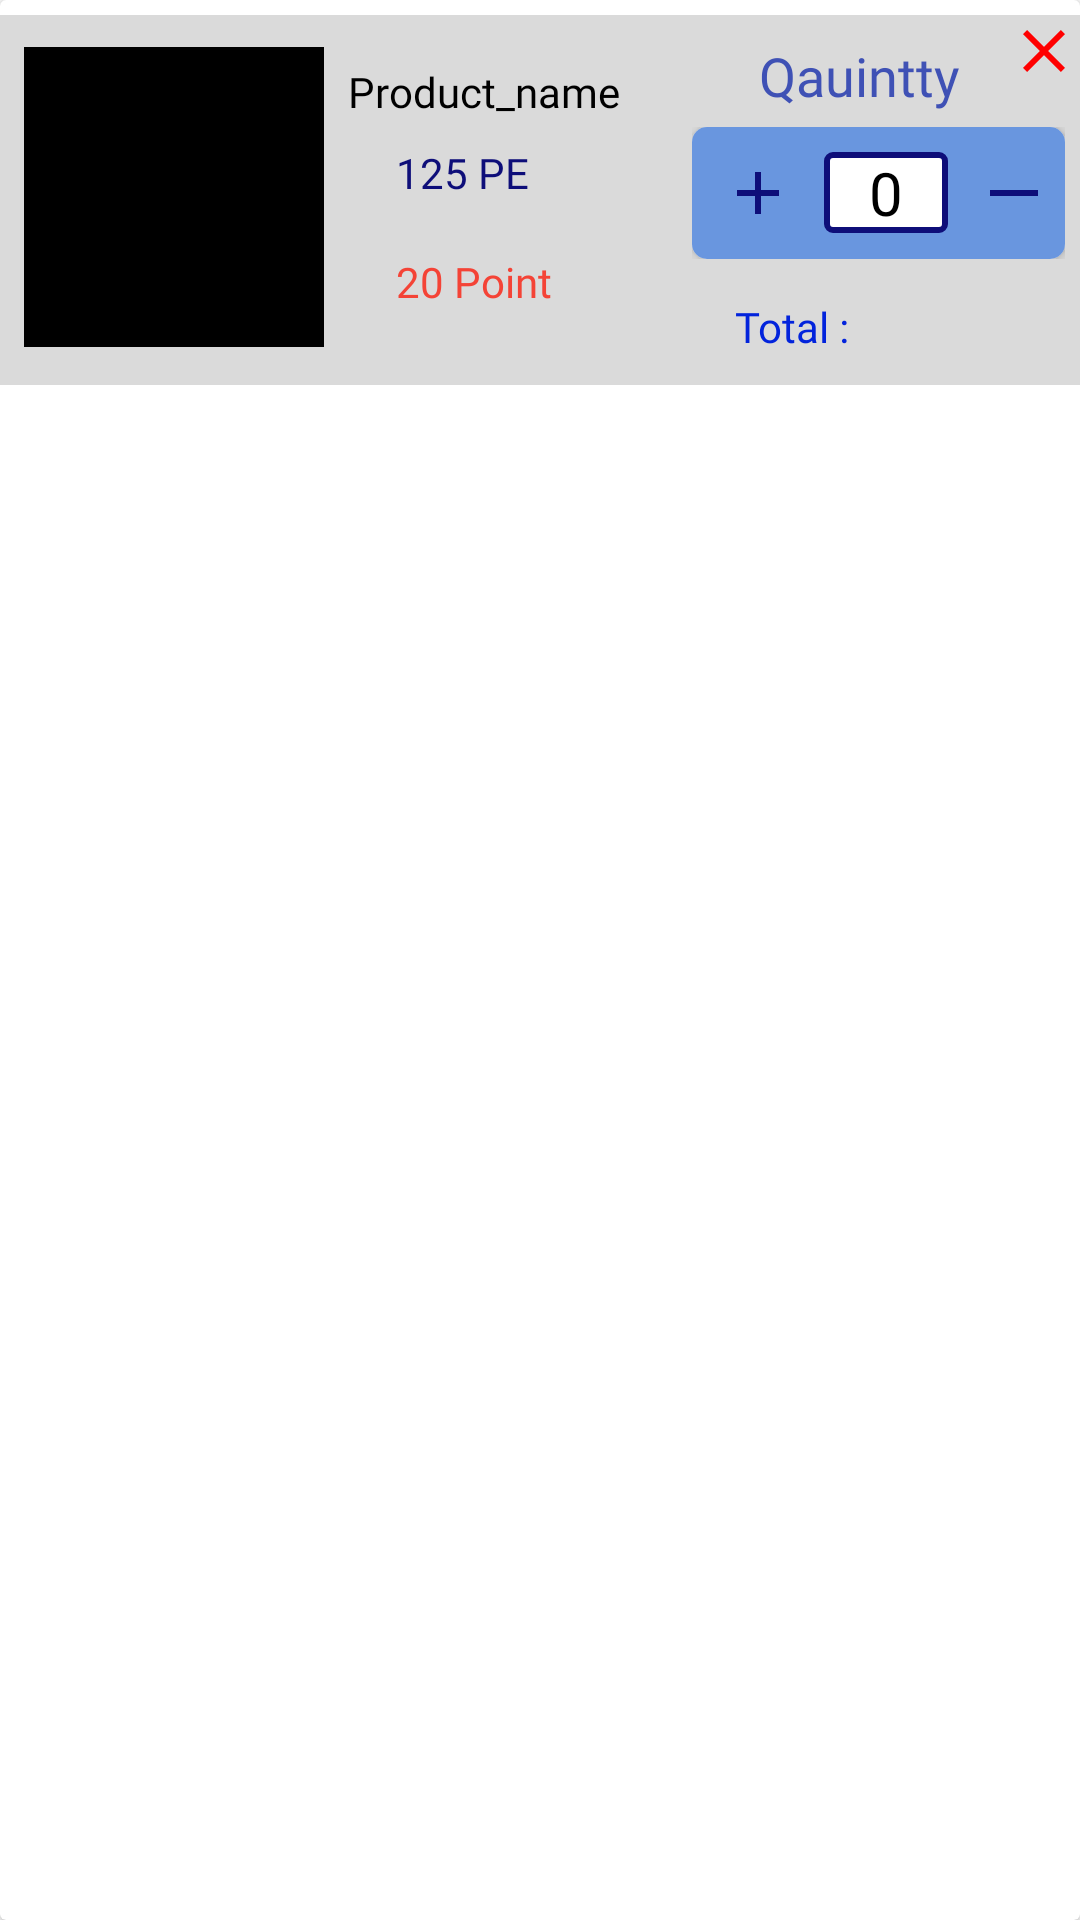

Icons on this 1080 x 1920 Android screen, each with its box as (x1, y1, x2, y2):
add: (692, 127, 824, 259)
